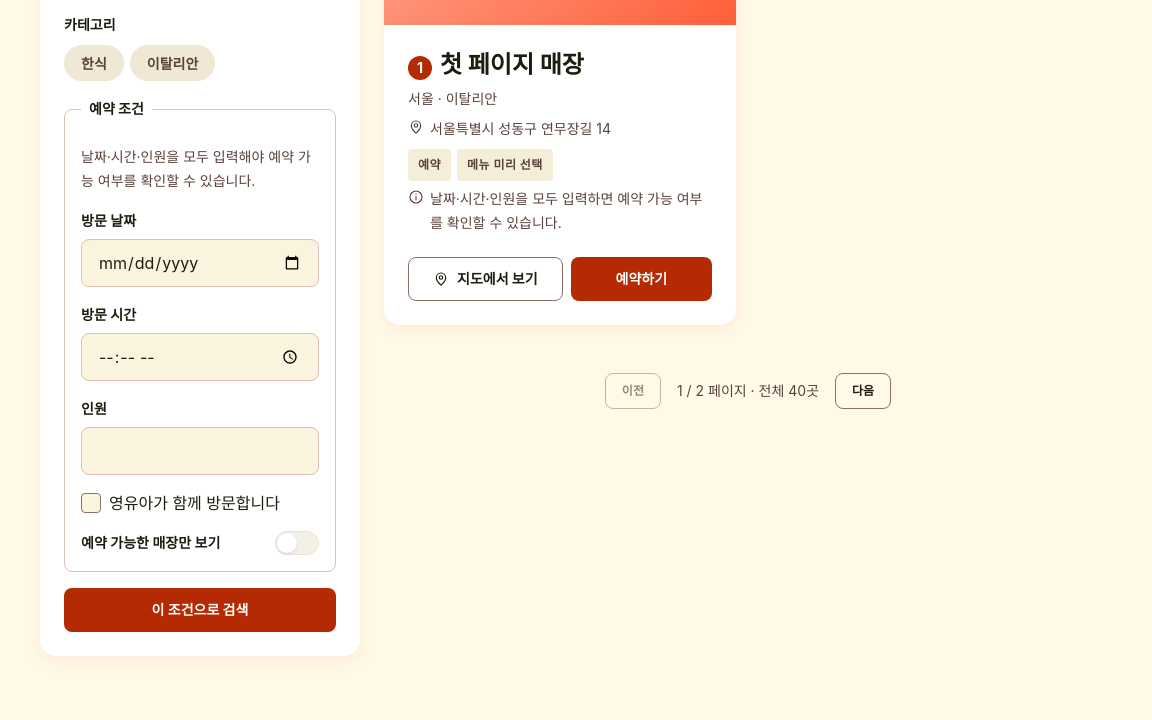
매장 찾기 결과 화면 › 페이지만 넘길 때는 이전 목록을 유지해 깜빡이지 않는다
(page scrolled)
Expected: the link "첫 페이지 매장" is shown, [440, 49, 584, 81]
Click the button "다음" at (863, 391), box [835, 373, 891, 409]
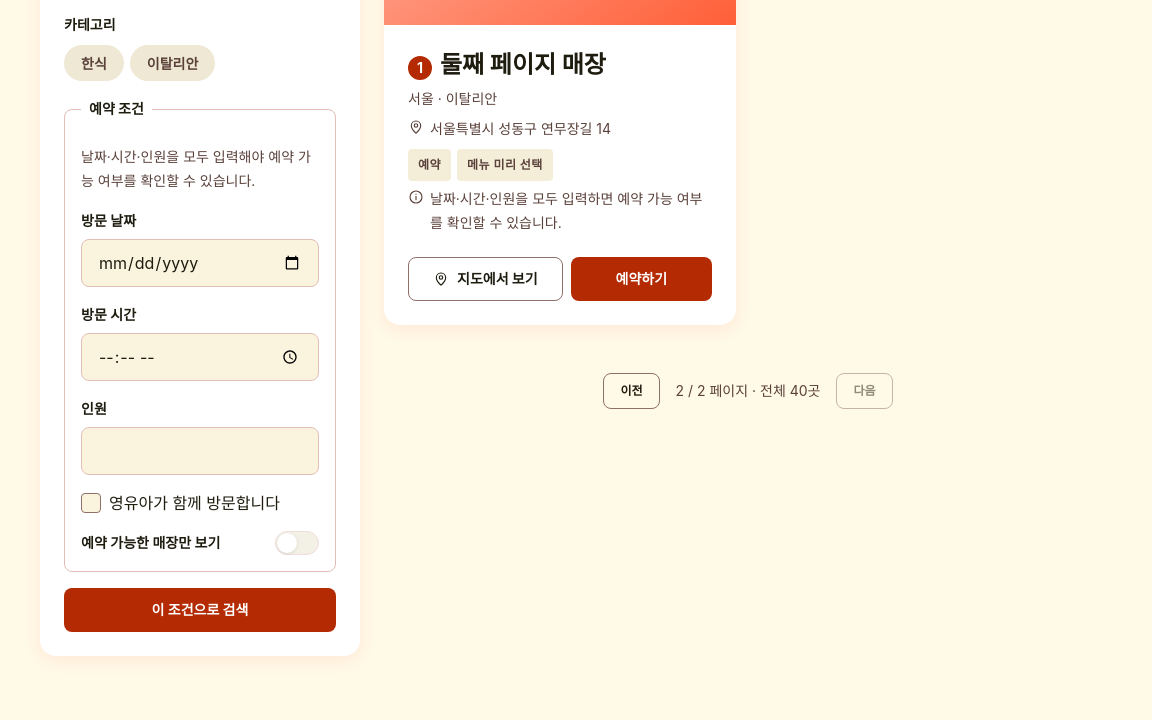
Expected: the link "둘째 페이지 매장" is shown, [440, 49, 606, 81]
